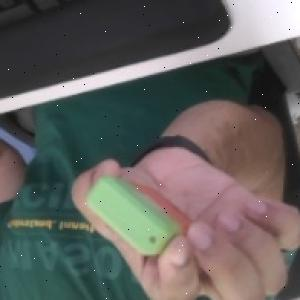Swift-E-Ciggirate: (82, 173, 202, 260)
